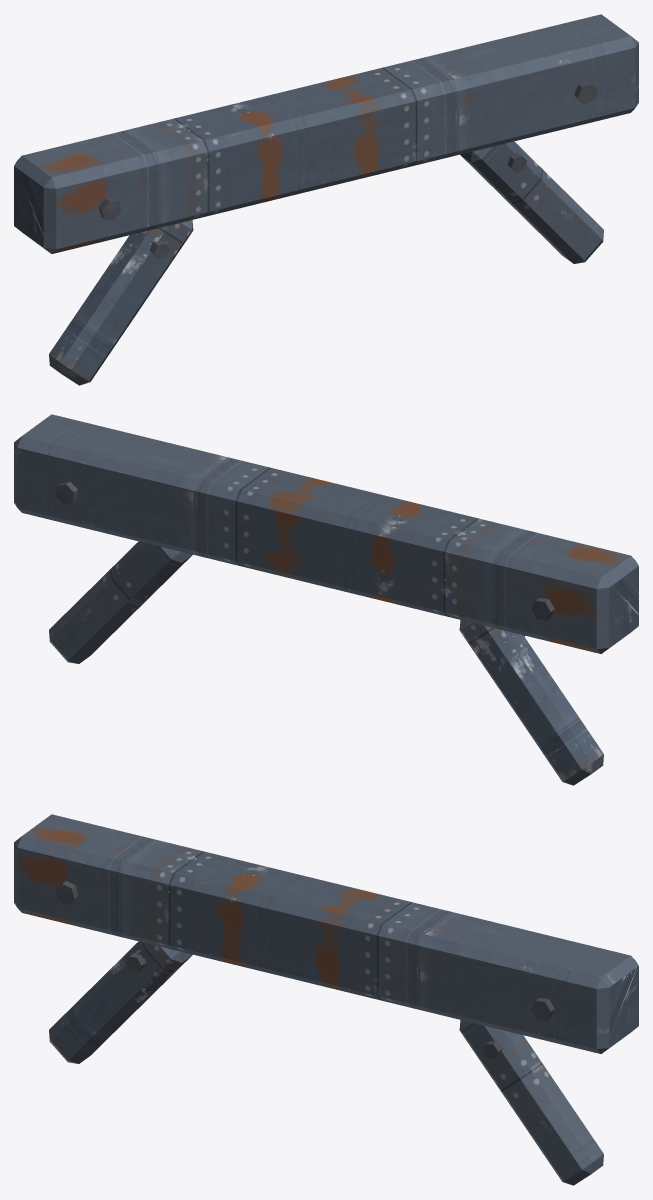
File: kiris.glb
3 renders of one model, top to bottom at view 1: azimuth 30°, elevation 25°; view 2: azimuth 150°, elevation 25°; view 3: azimuth 330°, elevation 25°, orthographic.
Visible parts, largest first — view 1: kiris; view 2: kiris; view 3: kiris.
Part boxes in pixels (x1,y1,x2,y2): kiris: (14,14,638,385); kiris: (14,414,638,785); kiris: (14,814,638,1185).
Size of the model in its own units: 3 by 1.08 by 0.41.
Materials: 1 (1 with a texture image).
